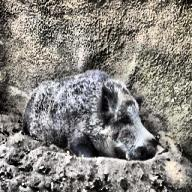boar: (22, 68, 161, 160)
